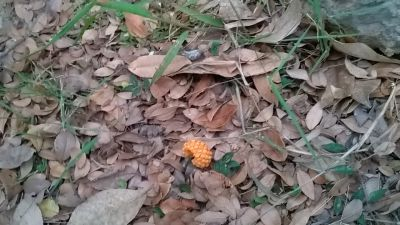eggs: (184, 140, 213, 169)
